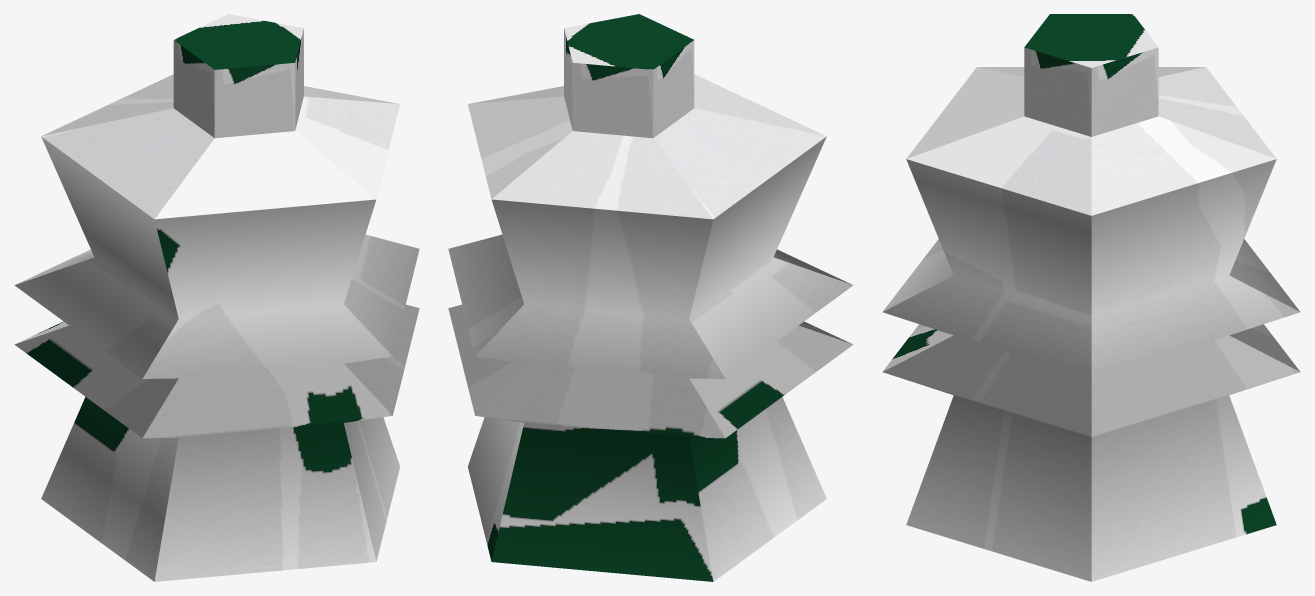
The model's file is compressed_bottle.fbx.
The picture shows the model from 3 angles, left to right: view 1: azimuth 30°, elevation 25°; view 2: azimuth 150°, elevation 25°; view 3: azimuth 270°, elevation 25°; orthographic projection.
Visible parts, largest first — view 1: pCylinder9; view 2: pCylinder9; view 3: pCylinder9.
Part boxes in pixels (x1,y1,x2,y2): pCylinder9: (14,14,419,581); pCylinder9: (448,14,853,581); pCylinder9: (882,14,1300,581).
Bounding box in the file's own units: 1.66 × 2.15 × 1.75.
